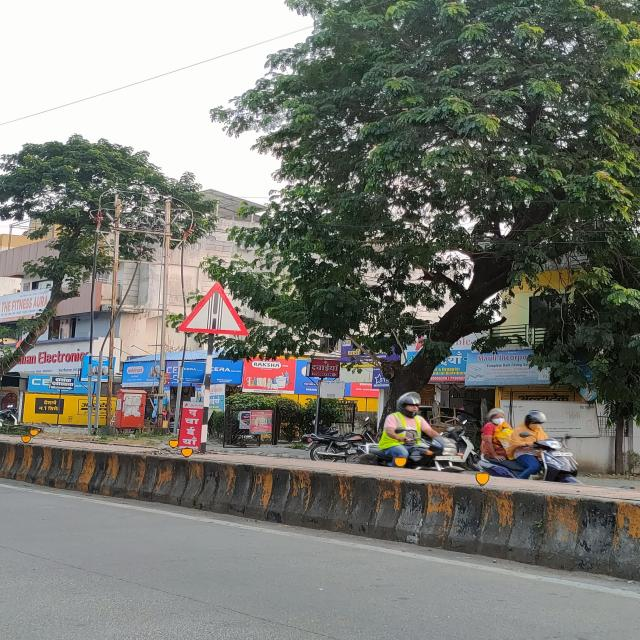GAP_IN_MEDIAN: (176, 282, 246, 335)
